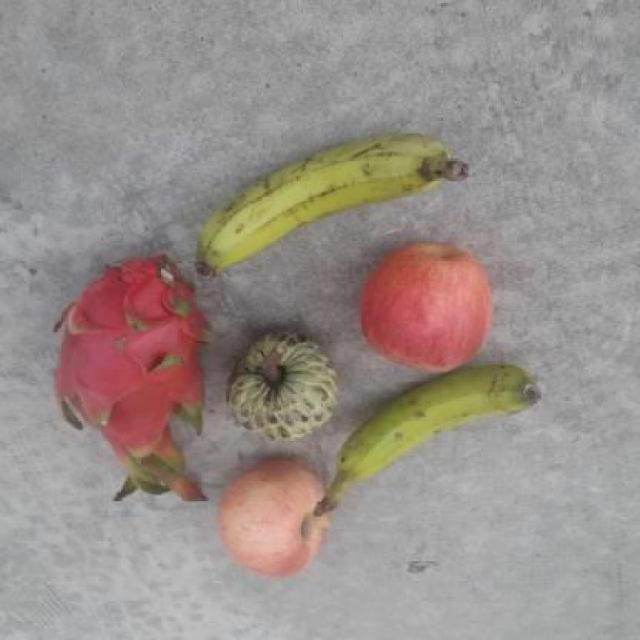apple: (355, 238, 495, 375), (217, 455, 332, 578)
banana: (193, 133, 473, 279), (308, 364, 541, 518)
dragon fruit: (46, 256, 217, 502)
sugar apple: (223, 329, 340, 443)
